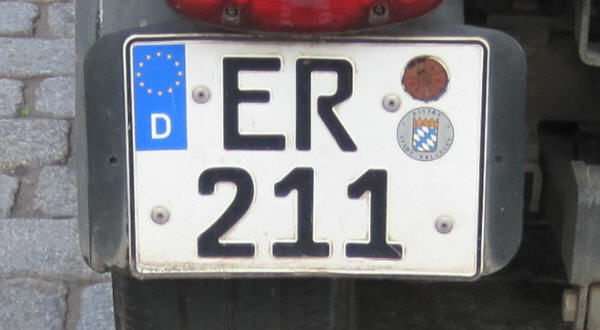license_plate: (124, 36, 487, 281)
